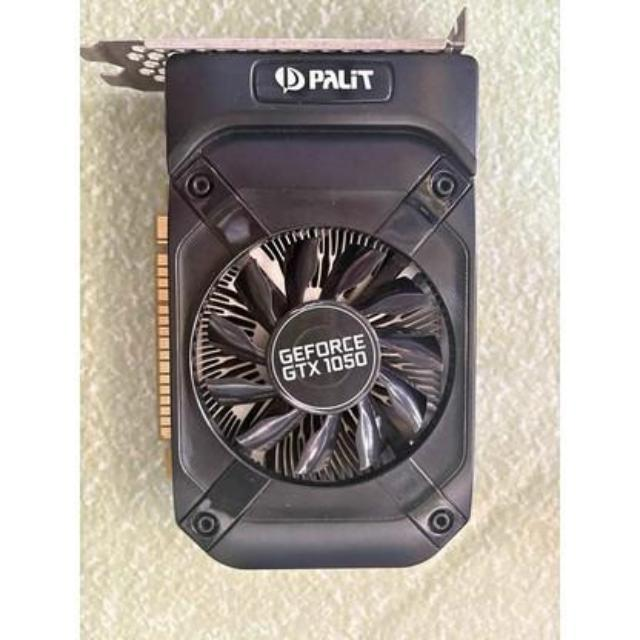GPU: (156, 28, 474, 566)
